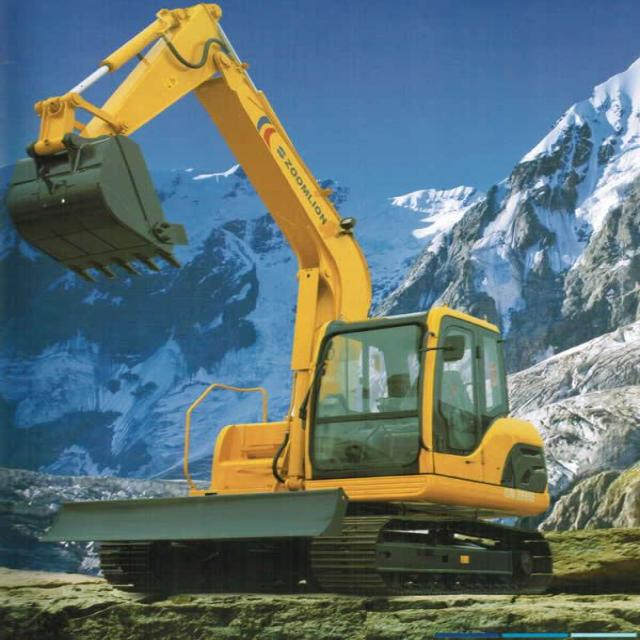excavator: (3, 3, 562, 591)
